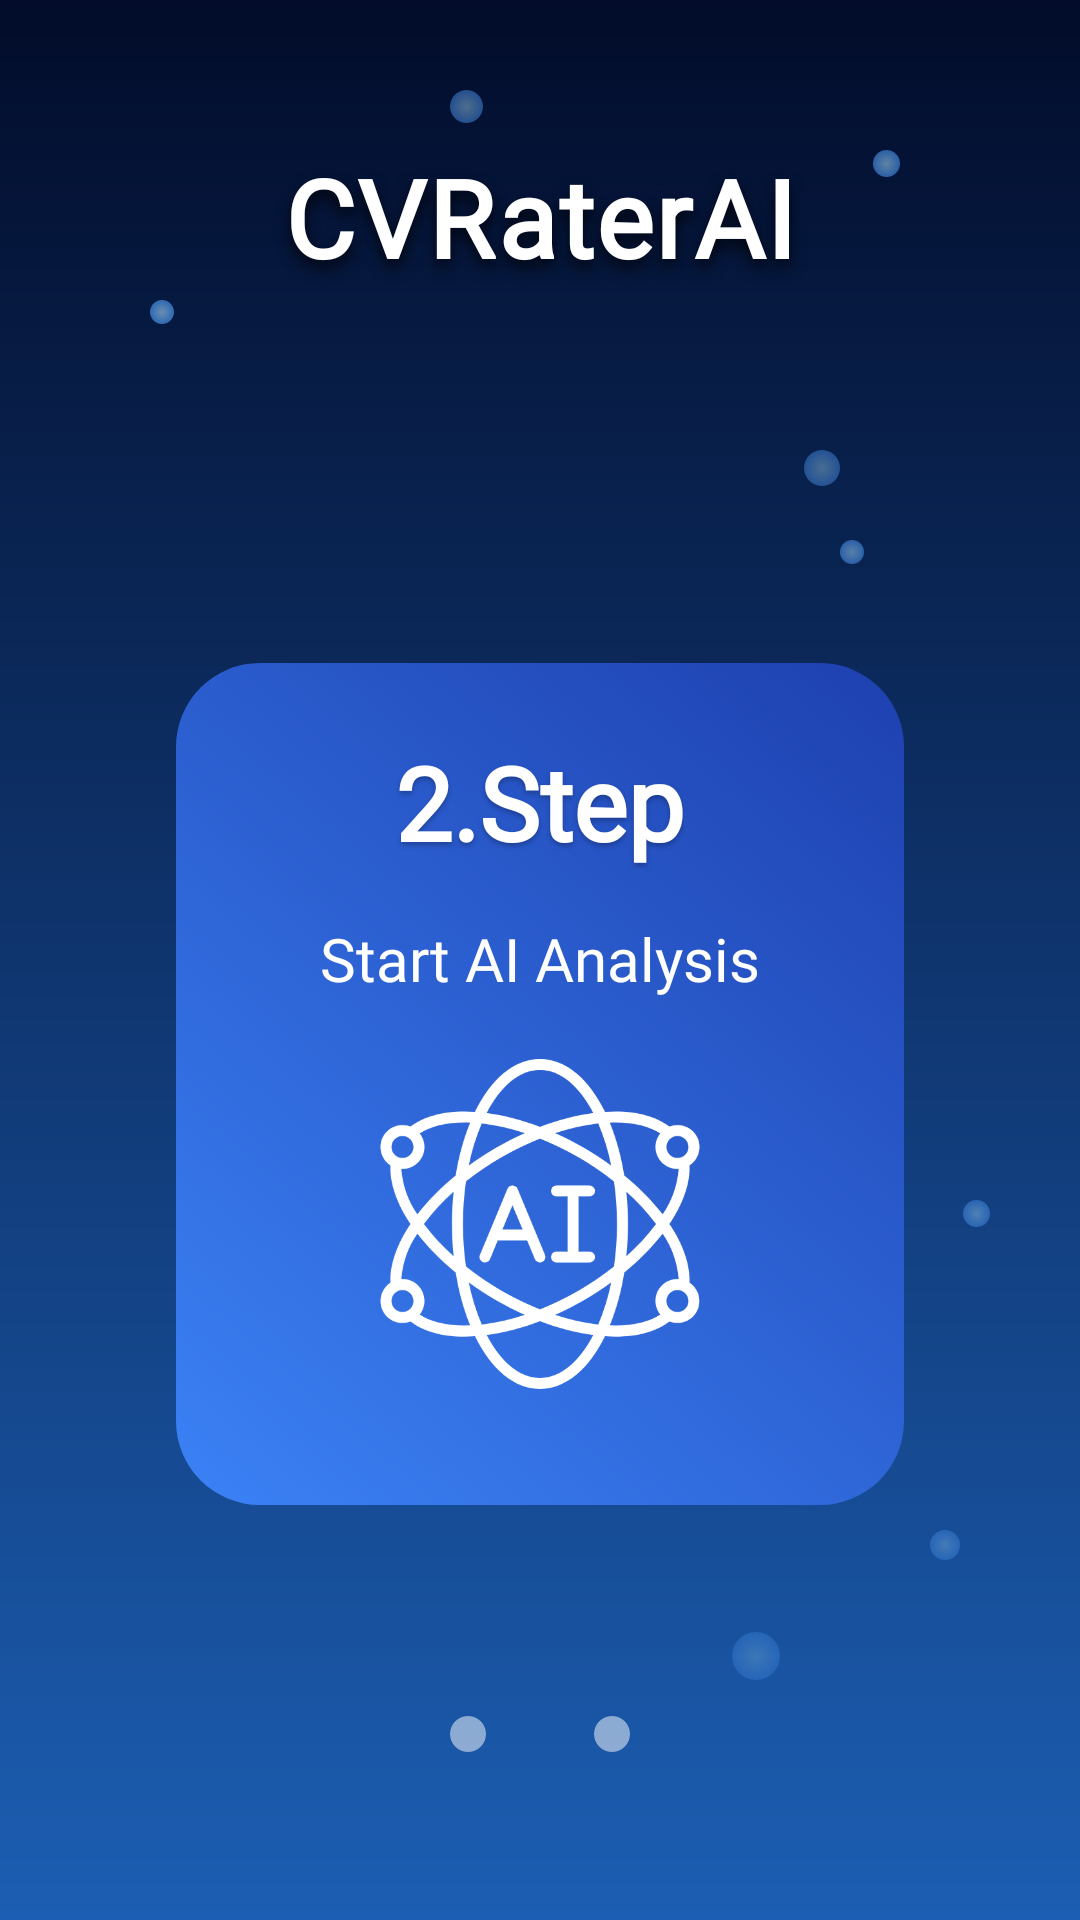

Icons on this 1080×1920 Android screen, each with its box as (x1, y1, x2, y2):
dot: (450, 1716, 486, 1752), (594, 1716, 630, 1752)
